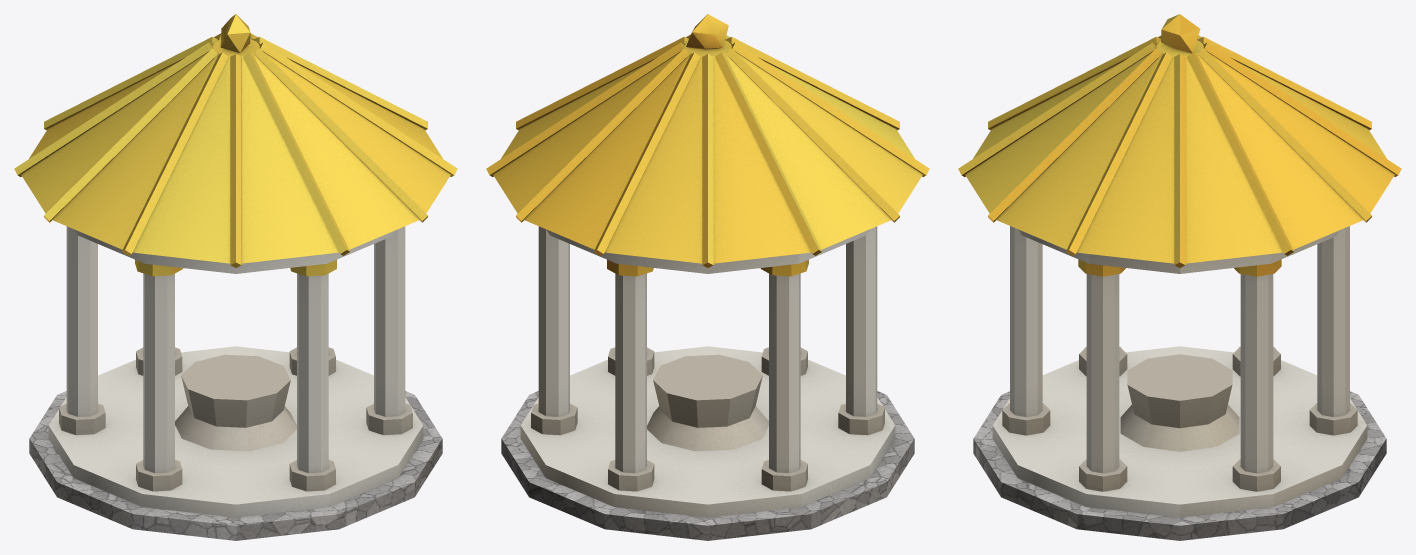
File: hub_shrine_golden.fbx
3 views of the same model, side by side, from view 1: azimuth 30°, elevation 25°; view 2: azimuth 150°, elevation 25°; view 3: azimuth 270°, elevation 25° (orthographic).
Visible parts, largest first — view 1: hub_shrine_golden_body; view 2: hub_shrine_golden_body; view 3: hub_shrine_golden_body.
Part boxes in pixels (bbox=[...]): hub_shrine_golden_body: bbox=[14, 14, 457, 540]; hub_shrine_golden_body: bbox=[486, 14, 929, 540]; hub_shrine_golden_body: bbox=[958, 14, 1401, 540].
Bounding box in the file's own units: 924 × 1010 × 924.
Materials: 1 (1 with a texture image).
